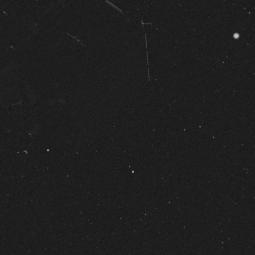proba_2: (11, 0, 203, 93)
